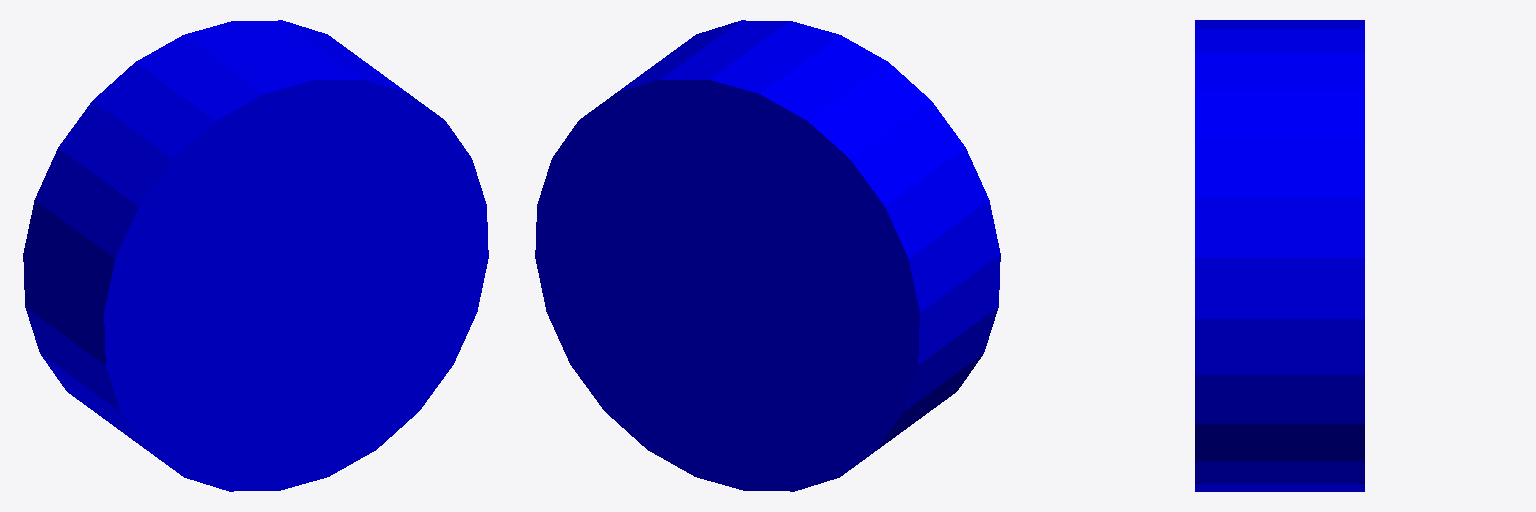
URDF robot description (globe):
<?xml version="1.0"?>
<robot name="globe">
  <link name ="rb1_marker">
    <visual>
      <origin xyz='0 0 0'/>
      <geometry>
        <mesh filename="blue_circle.obj"  scale="1 1 1" />
      </geometry>
			<material name="red">
        <color rgba="0 0 1 1"/>
  		</material>
    </visual>
    <collision>
      <origin xyz='0 0 0'/>
      <geometry>
        <mesh filename="blue_circle.obj"  scale="1 1 1" />
      </geometry>
    </collision>
  </link>
</robot>

--- Facts derived from the render (not from the file) ---
The picture shows the robot from 3 angles, left to right: view 1: azimuth 30°, elevation 25°; view 2: azimuth 150°, elevation 25°; view 3: azimuth 270°, elevation 25°; orthographic projection.
Model globe with 1 links and 0 joints (none), rooted at rb1_marker, posed every joint at zero.
Links seen in each view (by area): view 1: rb1_marker; view 2: rb1_marker; view 3: rb1_marker.
Link boxes in pixels (box(x1,y1,x2,y2)): rb1_marker: box(23, 20, 488, 491); rb1_marker: box(535, 20, 1000, 491); rb1_marker: box(1195, 20, 1364, 491).
Size in the robot's own frame: 0.2106 by 0.0766 by 0.2106 metres.
1 mesh visuals loaded from 1 distinct referenced files (1 OBJ).